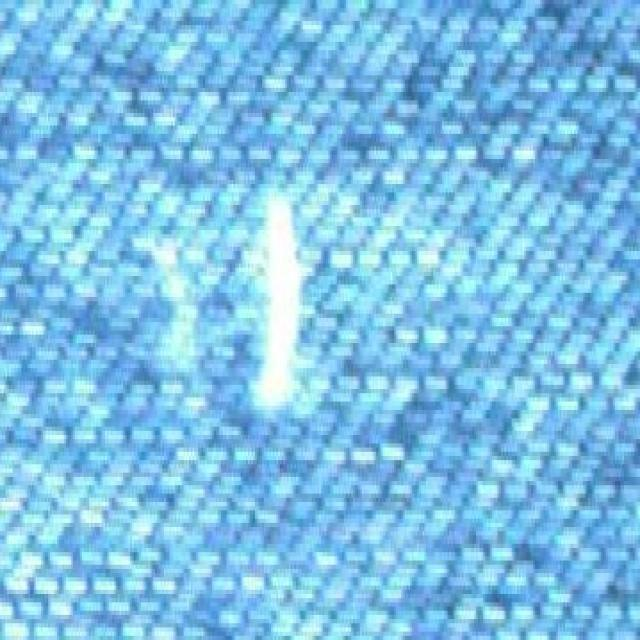pulled_or_thick_thread: (246, 178, 307, 413)
